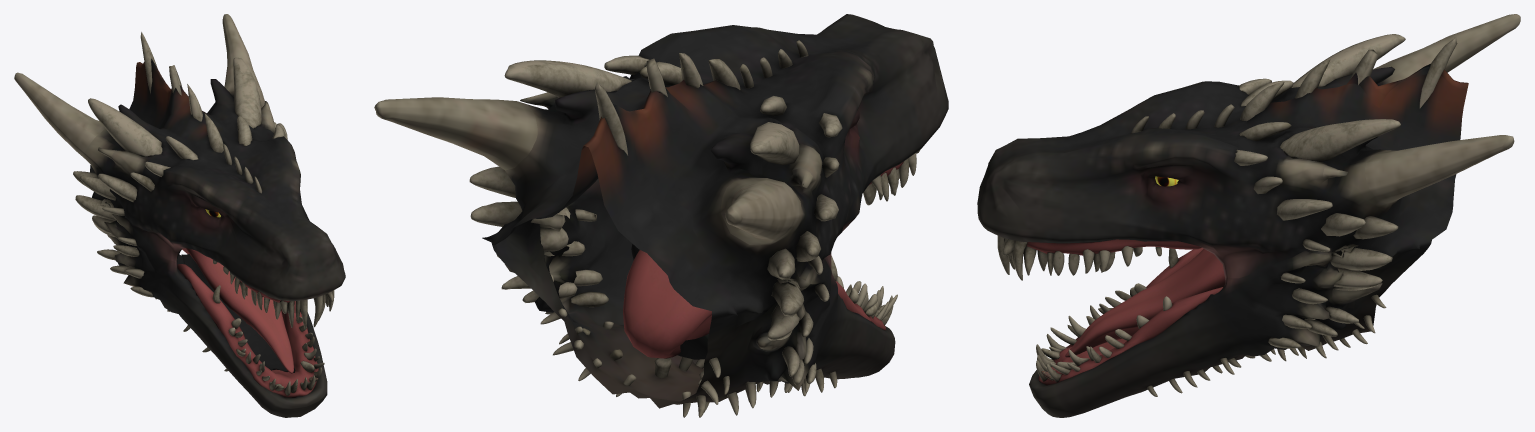
Rendered from dragon_000015.obj.
The picture shows the model from 3 angles, left to right: view 1: azimuth 30°, elevation 25°; view 2: azimuth 150°, elevation 25°; view 3: azimuth 270°, elevation 25°; orthographic projection. The views are drawn at different scales.
Visible parts, largest first — view 1: Dragon_Untitled; view 2: Dragon_Untitled; view 3: Dragon_Untitled.
Part boxes in pixels (<box>): Dragon_Untitled: <box>14,14,345,417</box>; Dragon_Untitled: <box>374,14,948,417</box>; Dragon_Untitled: <box>977,14,1520,417</box>.
Bounding box in the file's own units: 2.72 × 3.38 × 4.44.
